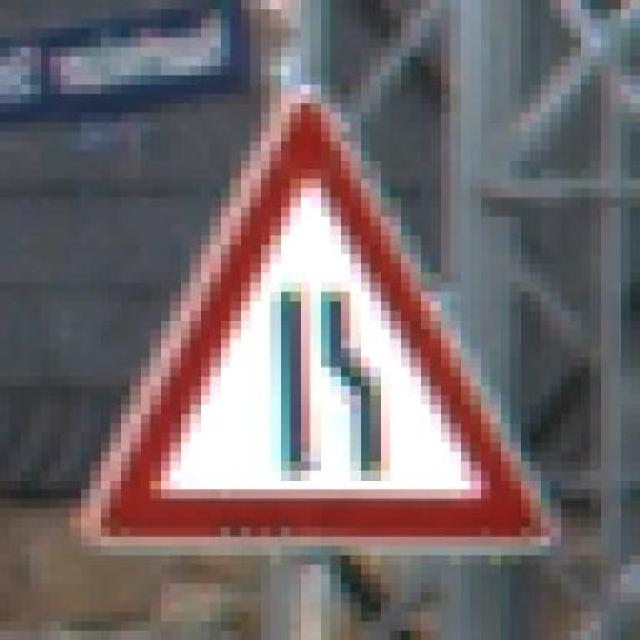-Road narrows on right: (60, 76, 571, 556)
